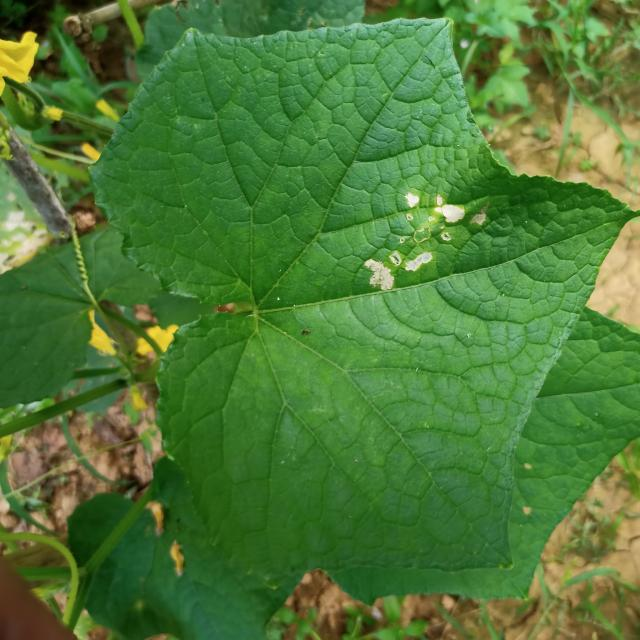disease_cucumber: (356, 188, 490, 294)
